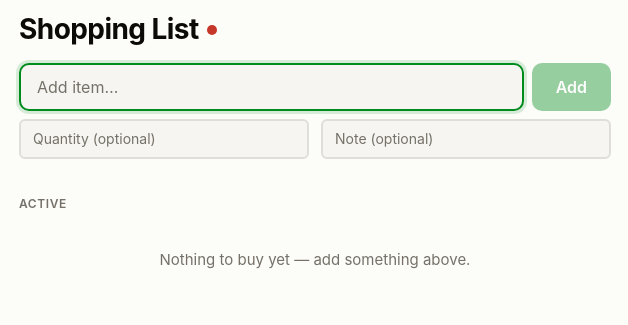
Test: Task 4 — Add and display items › AC6: item shows name and quantity in the list
This screenshot has width=628, height=325.
Type "Milk" into the field named "item name".
click(271, 87); type("Milk")  # box [19,63,524,111]
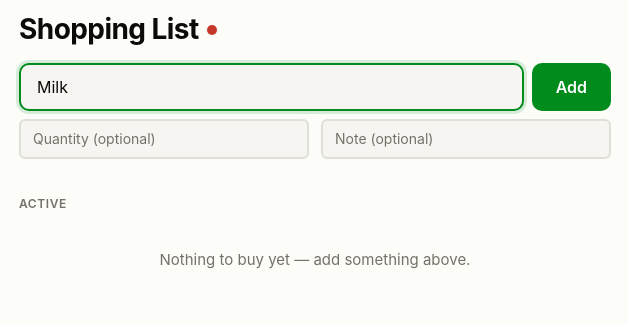
Type "2 liters" into the field labelled "Quantity (optional)".
click(164, 139); type("2 liters")  # box [19,119,309,159]
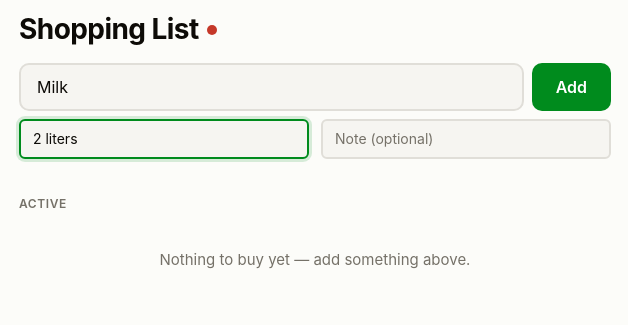
Press Enter
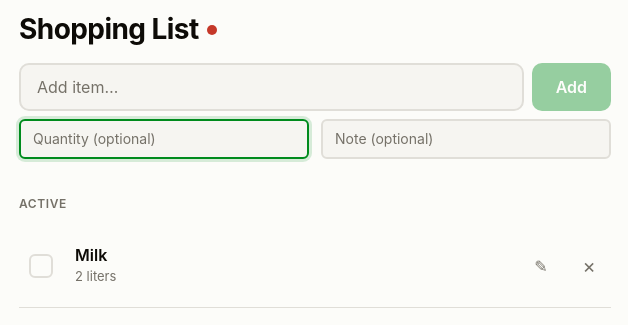
Now the text "Milk" is shown, box [75,245,107,265]
Now the text "2 liters" is shown, box [75,267,116,287]
